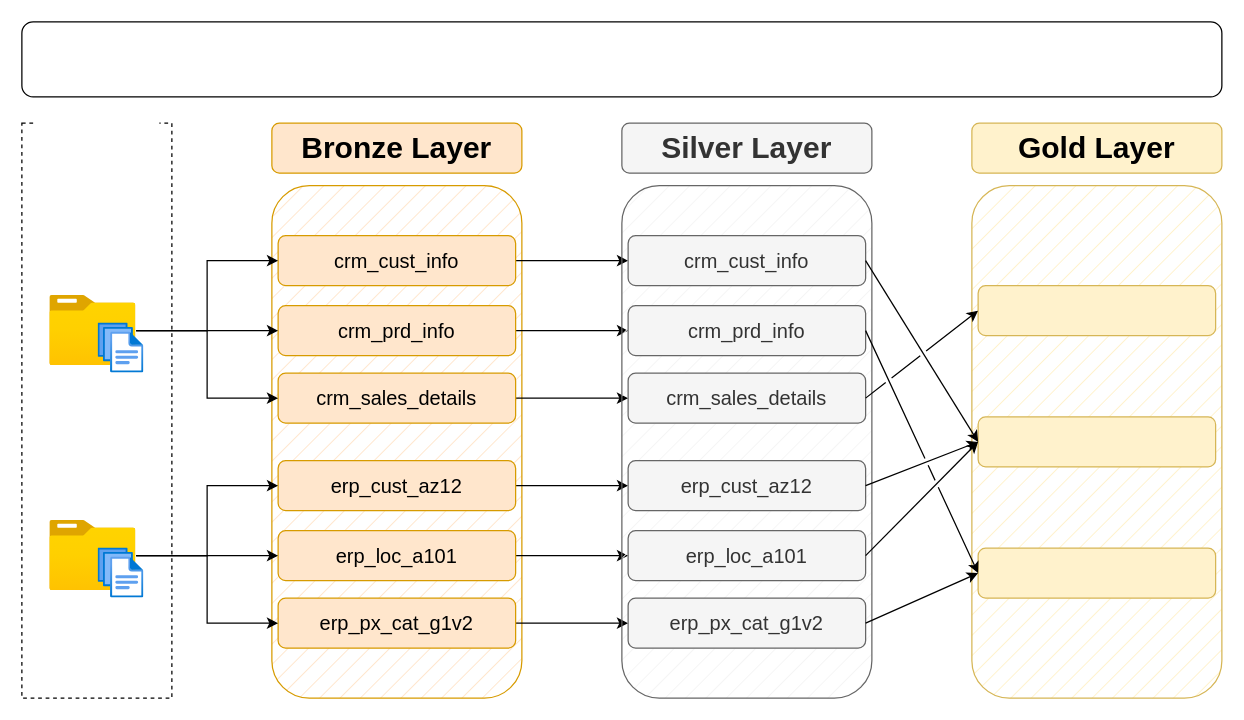
The diagram is 1244 pixels wide and 720 high, and some of its shapes have lost their labels. Each missing label, with the box of its shape:
CRM: (49, 295, 136, 365)
Data Flow Diagram ( Data Lineage ): (21, 21, 1222, 97)
dim_customers: (977, 416, 1216, 467)
dim_products: (977, 547, 1216, 598)
ERP: (49, 520, 136, 590)
fact_sales: (977, 284, 1216, 336)
Sources: (34, 98, 159, 148)
